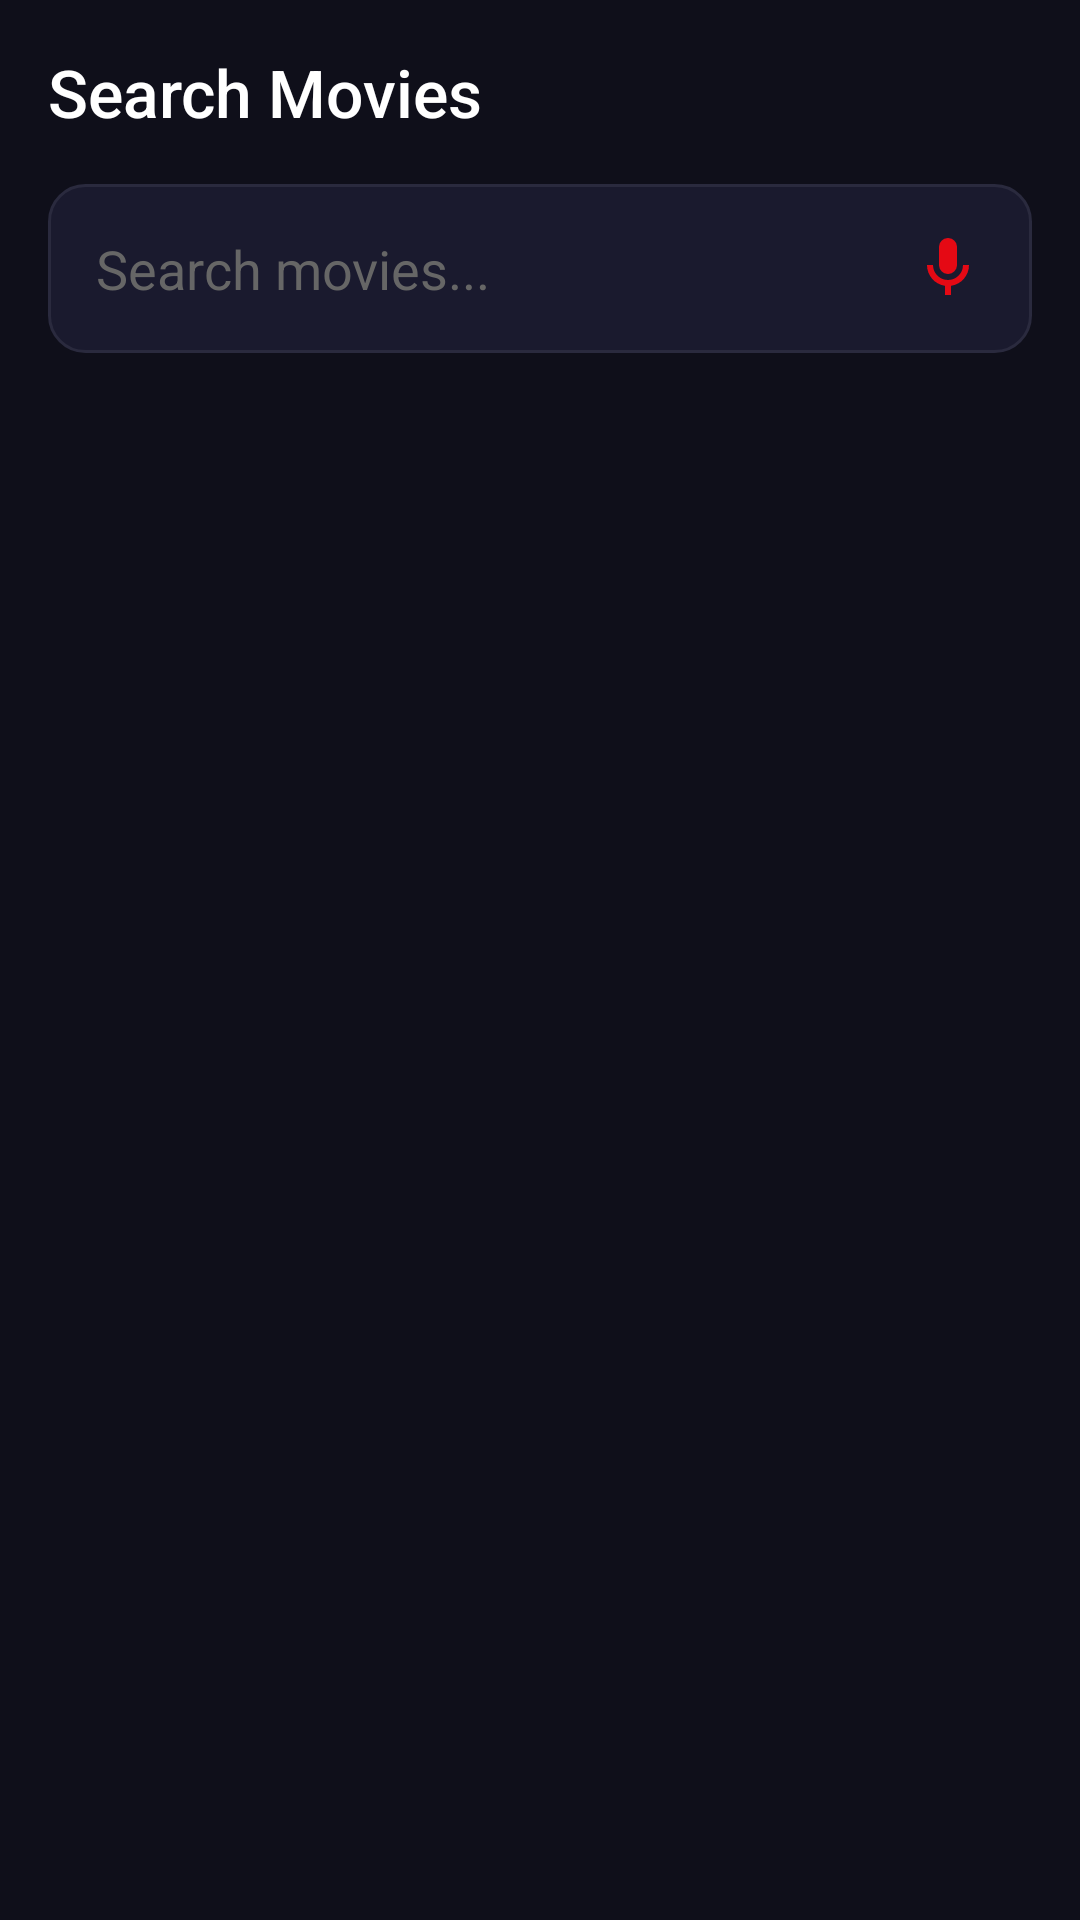

Locate icon controls on the screen. Image size 1080w x 1920h, boxes as [x1,y1,x2,y2].
mic: [927,238,969,295]
